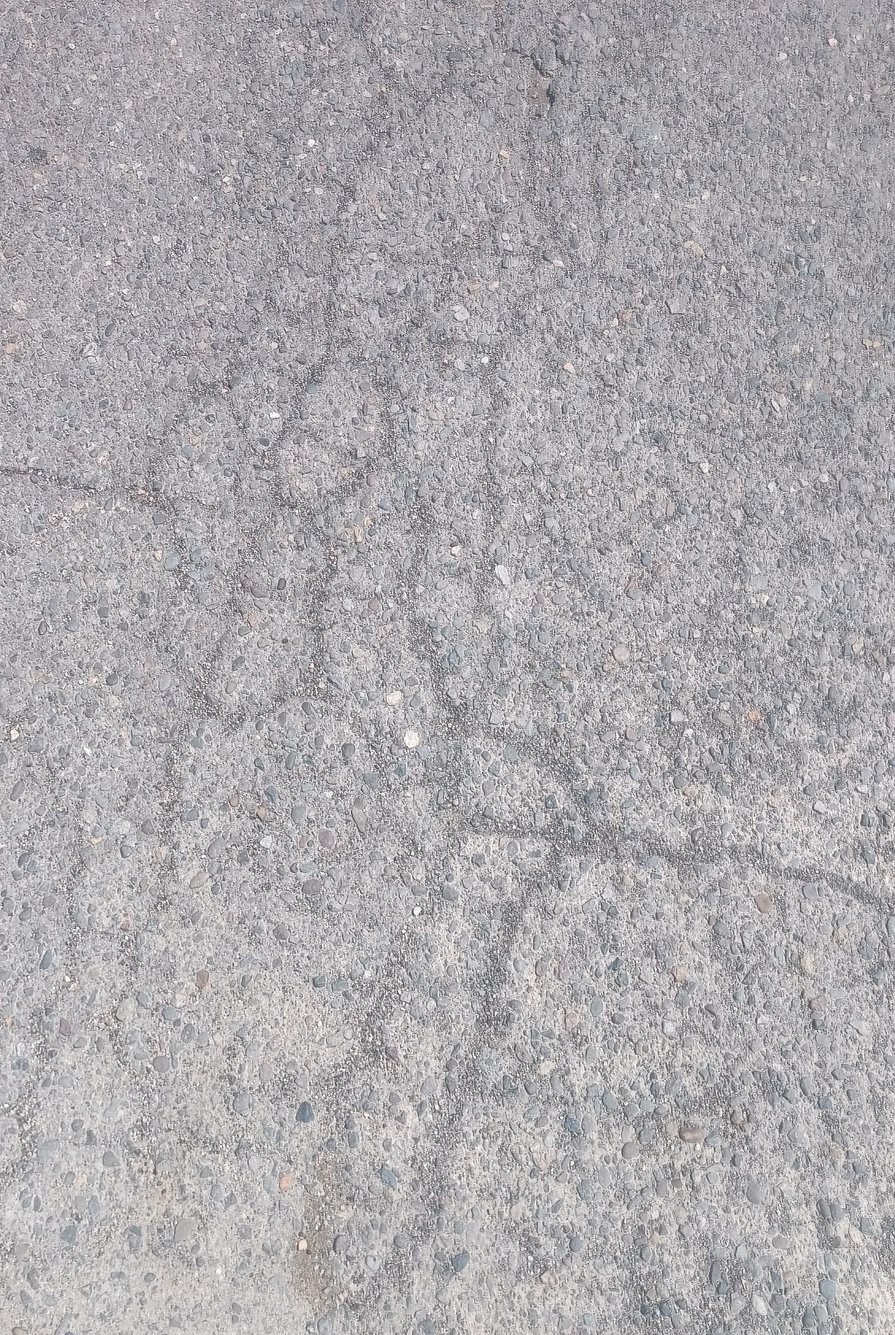PIEL DE COCODRILO: (0, 0, 895, 1323)
